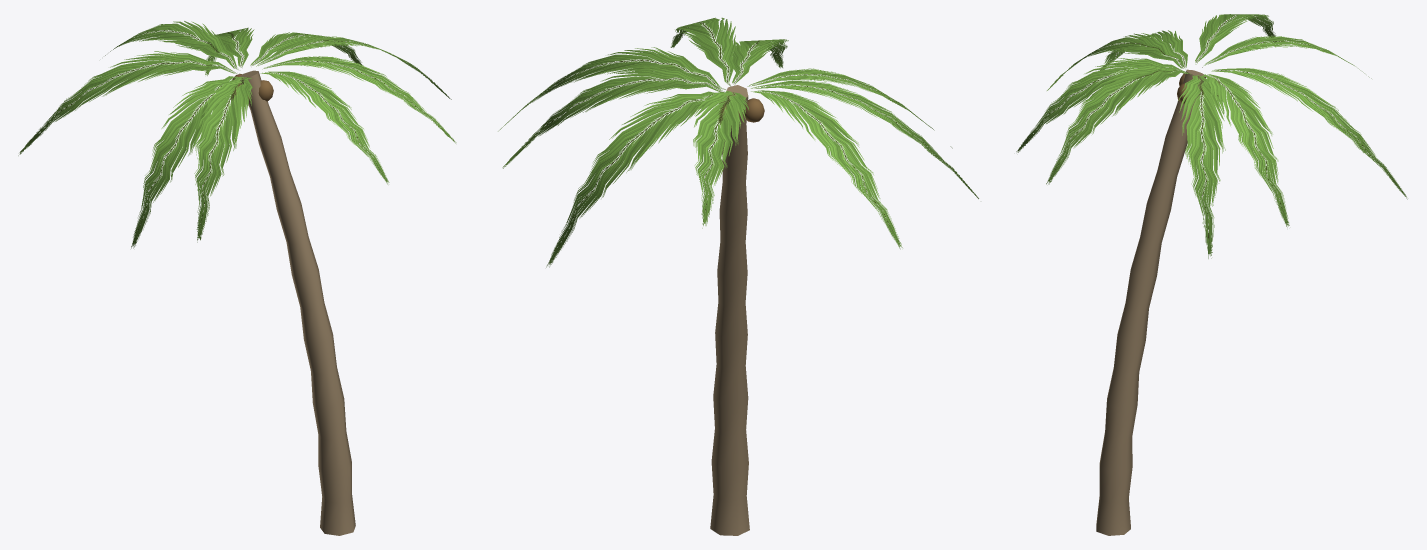
File: palm_1.glb
3 views of the same model, side by side, from view 1: azimuth 30°, elevation 25°; view 2: azimuth 150°, elevation 25°; view 3: azimuth 270°, elevation 25° (orthographic). The views are drawn at different scales.
Visible parts, largest first — view 1: palm_1; view 2: palm_1; view 3: palm_1.
Boxes of the visible parts, x1,y1,x2,y2 form: palm_1: (18, 21, 456, 535); palm_1: (498, 17, 978, 535); palm_1: (1016, 14, 1407, 535).
Bounding box in the file's own units: 6.88 × 7.44 × 5.89.
3 materials, 1 textured.
